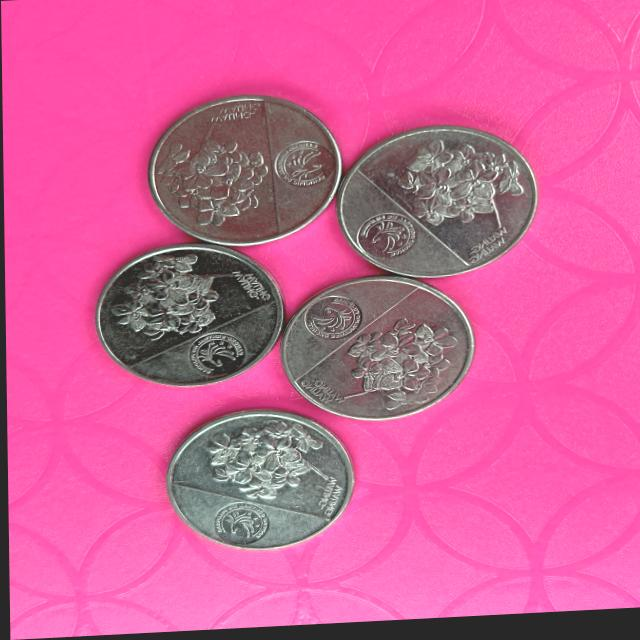1_New_Back: (338, 309, 474, 422), (399, 141, 537, 242), (203, 413, 338, 503), (108, 251, 228, 344), (159, 119, 267, 221)
